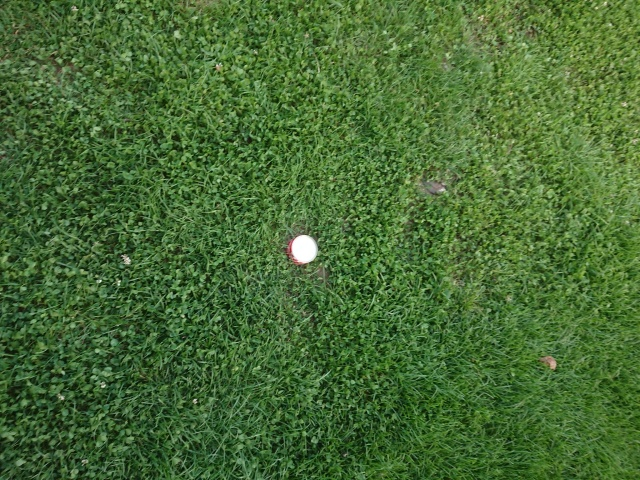Podravka Luncheon Meat 150g: (285, 233, 321, 268)
